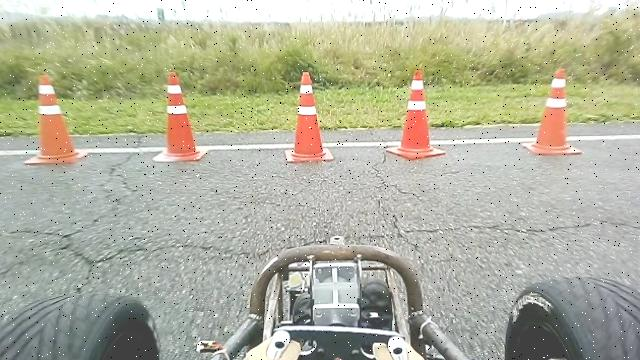red cone: (22, 71, 88, 165), (385, 68, 446, 160), (520, 67, 582, 156), (152, 68, 208, 162), (284, 70, 334, 163)
